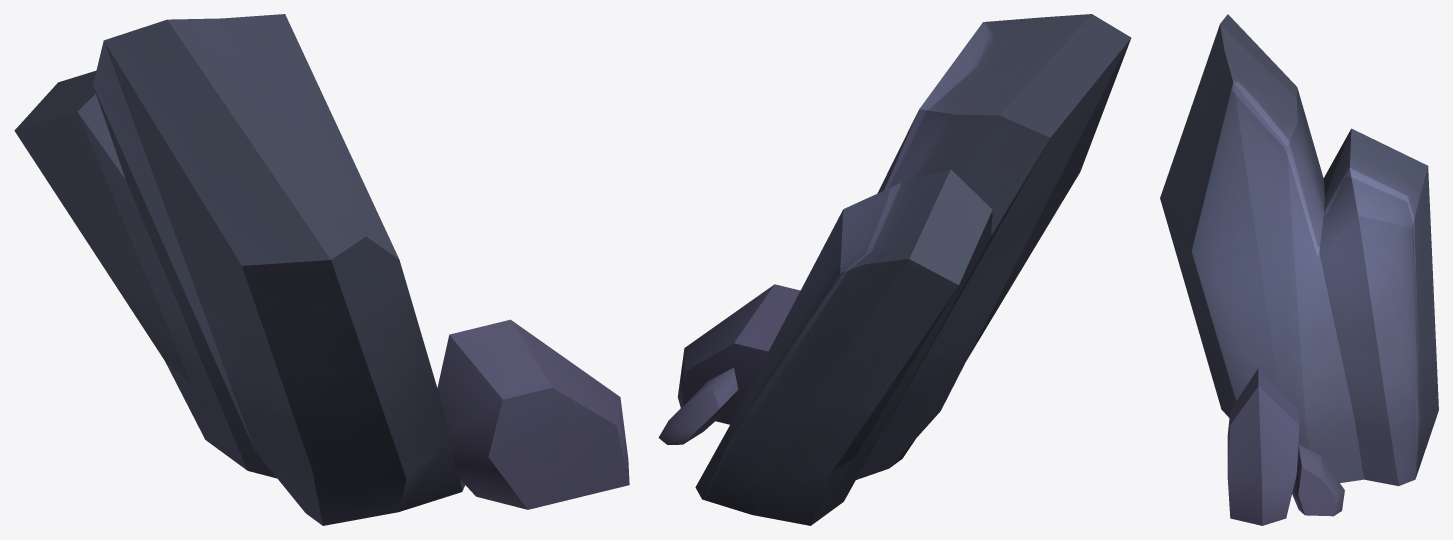
The model's file is rockruin2.fbx.
The picture shows the model from 3 angles, left to right: view 1: azimuth 30°, elevation 25°; view 2: azimuth 150°, elevation 25°; view 3: azimuth 270°, elevation 25°; orthographic projection. The views are drawn at different scales.
Parts seen in each view (by area): view 1: pCube7; view 2: pCube7; view 3: pCube7.
Boxes of the visible parts, box(x1,y1,x2,y2) form: pCube7: box(14, 14, 629, 525); pCube7: box(658, 14, 1131, 525); pCube7: box(1160, 14, 1438, 525).
Bounding box in the file's own units: 22 × 22.31 × 15.85.
